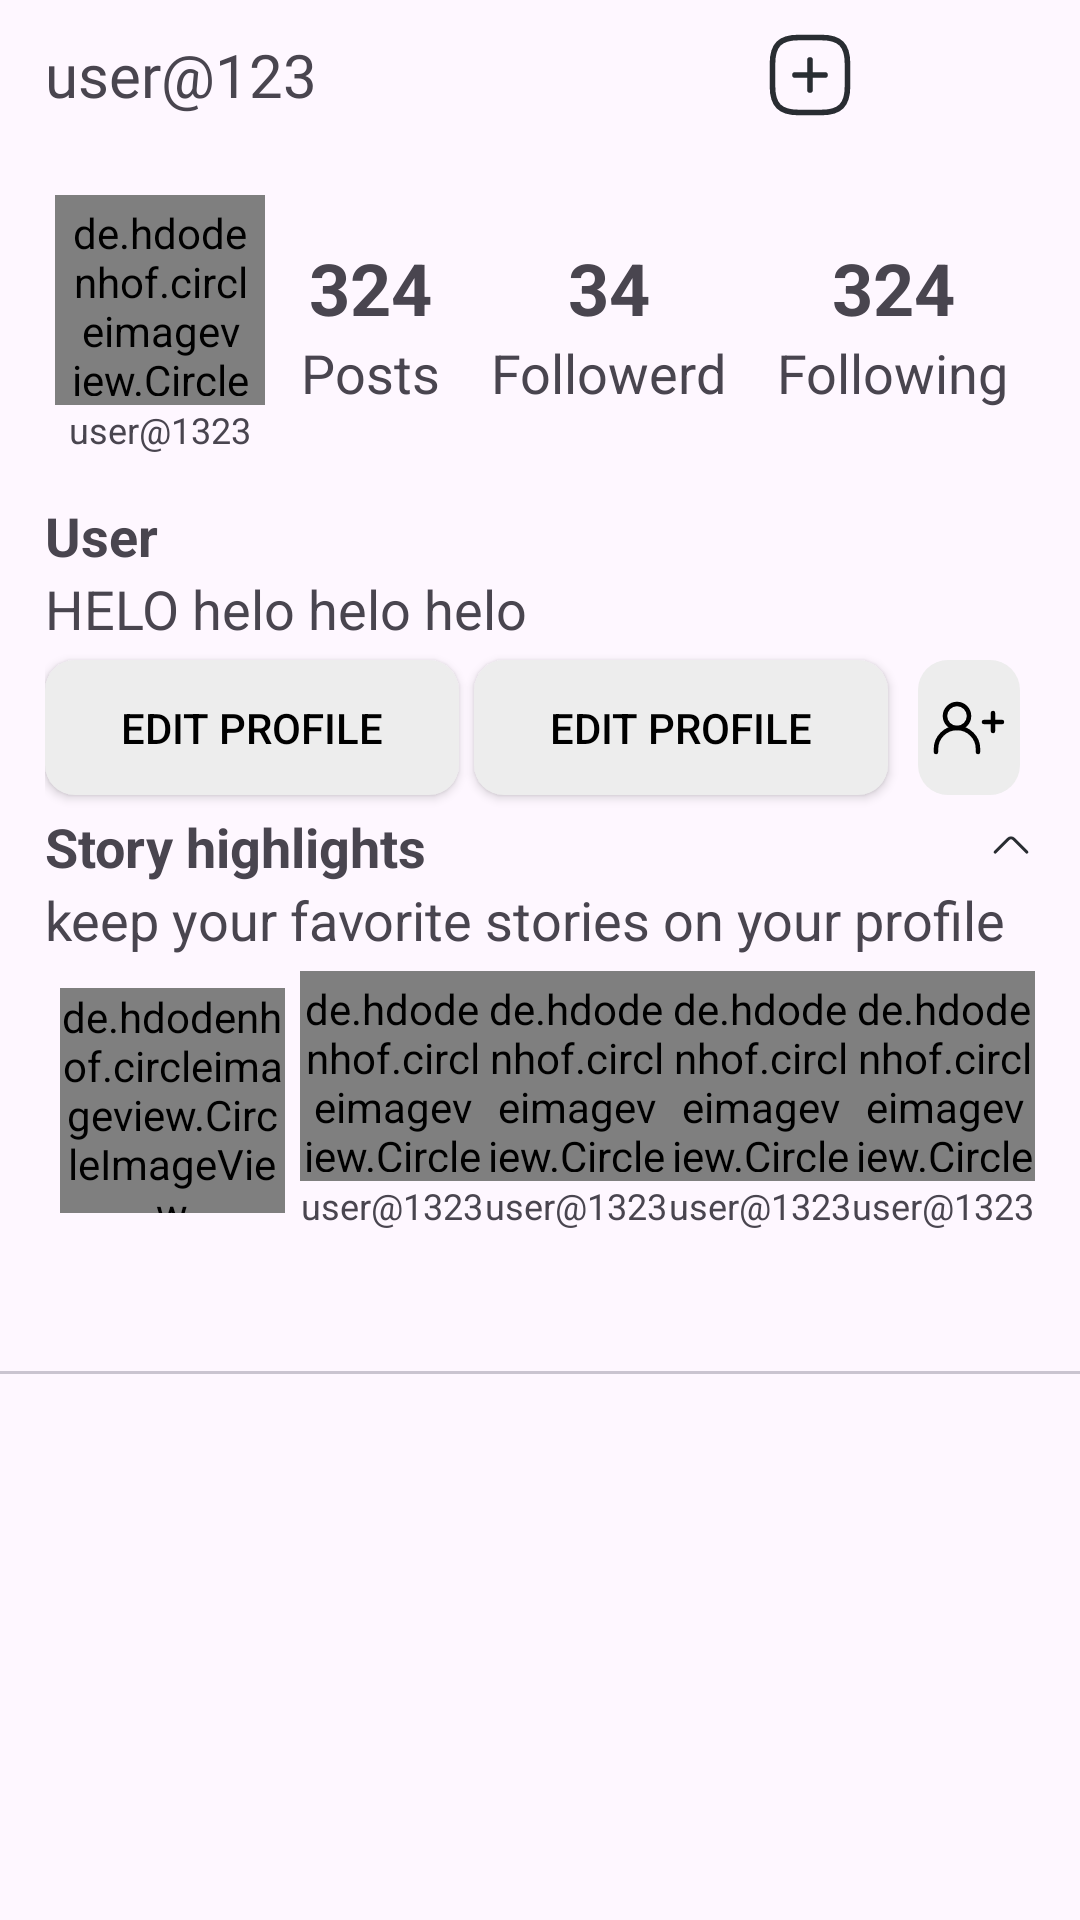

Icons on this 1080w x 1920h Android screen, each with the point to tap as (x=x, y=y):
user: (x=969, y=727)
